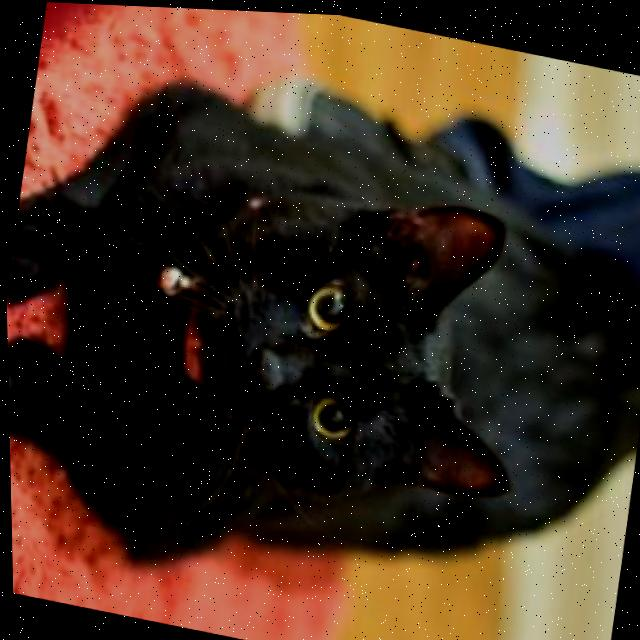Bombay: (1, 49, 640, 640)
